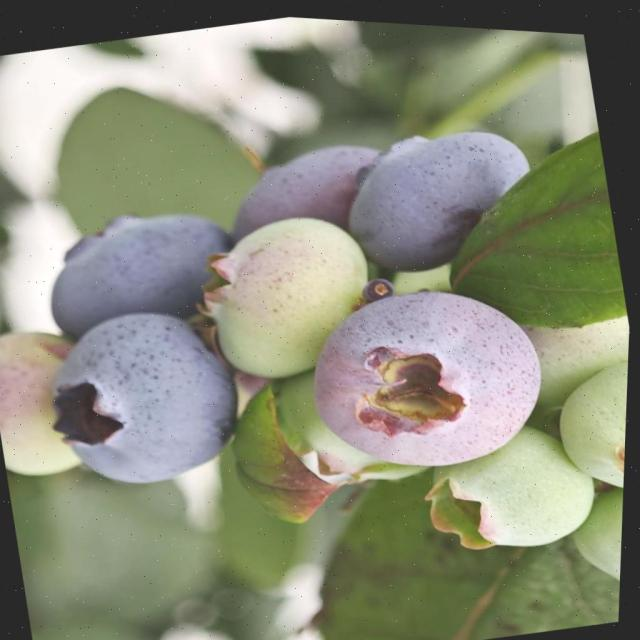RipeBlueBerry: (39, 293, 250, 500), (330, 111, 550, 285)
Semi-RipeBlueBerry: (291, 262, 562, 487)
UnripeBlueBerry: (199, 198, 397, 394)
